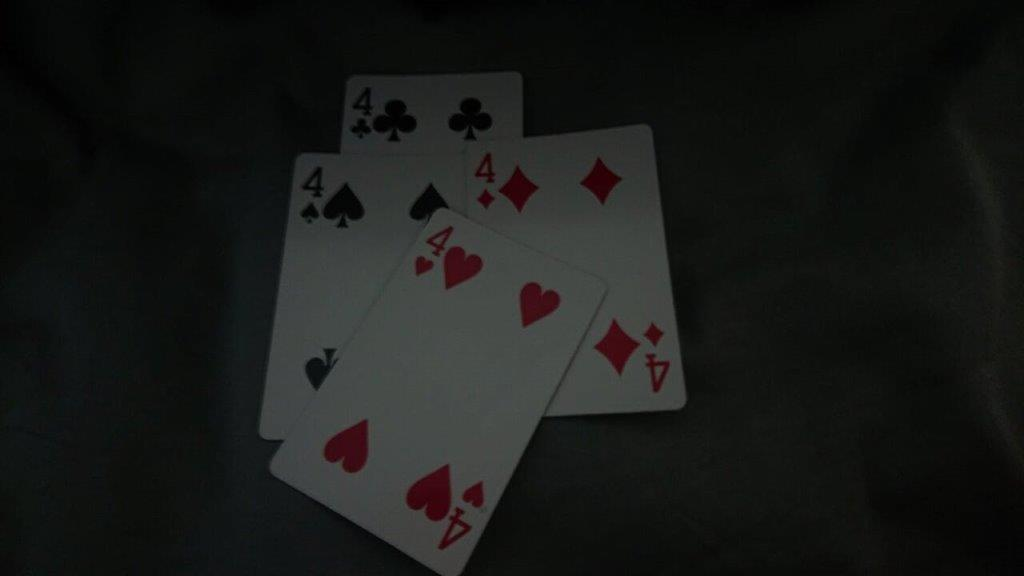4C: (345, 79, 382, 143)
4D: (469, 145, 506, 211)
4H: (411, 217, 463, 285)
4S: (293, 156, 329, 231)
